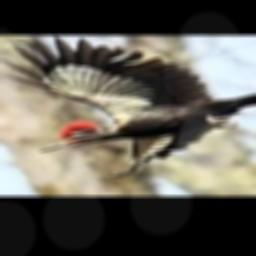Woodpecker: (0, 35, 256, 176)
